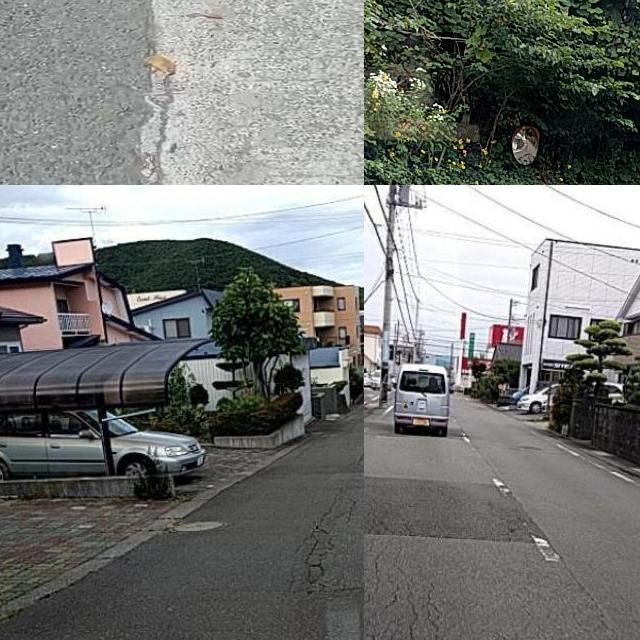Sambungan: (147, 0, 364, 185), (364, 471, 544, 546)
